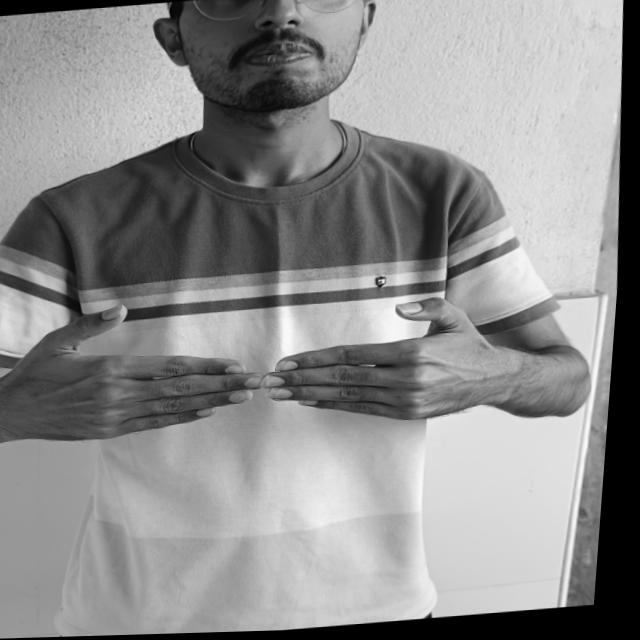Night: (13, 243, 529, 484)
